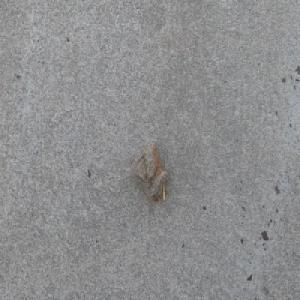Rock: (131, 140, 168, 203)
